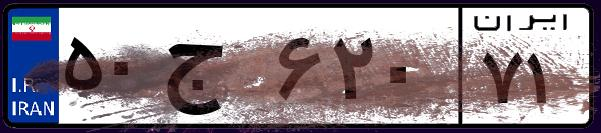0: (385, 28, 445, 110), (110, 28, 158, 98)
1: (525, 38, 570, 115)
2: (330, 28, 385, 110)
5: (57, 26, 110, 100)
6: (270, 28, 330, 110)
7: (475, 38, 525, 113)
ج: (158, 20, 270, 120)
